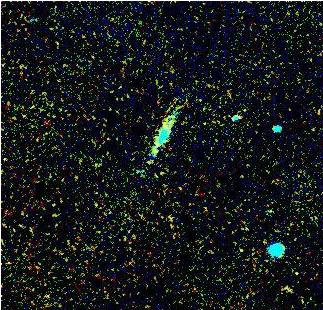star: (136, 146, 166, 176)
